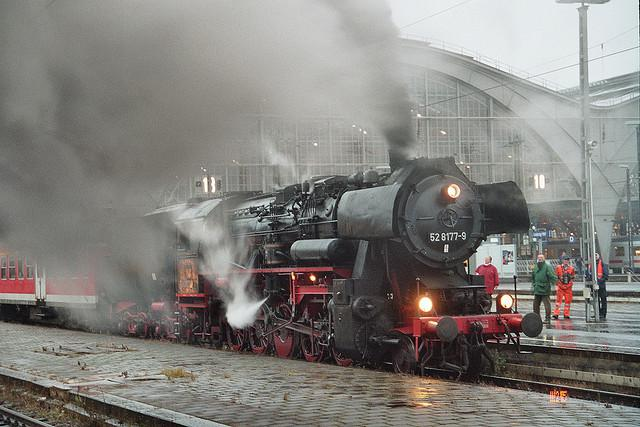Train: (1, 156, 544, 382)
